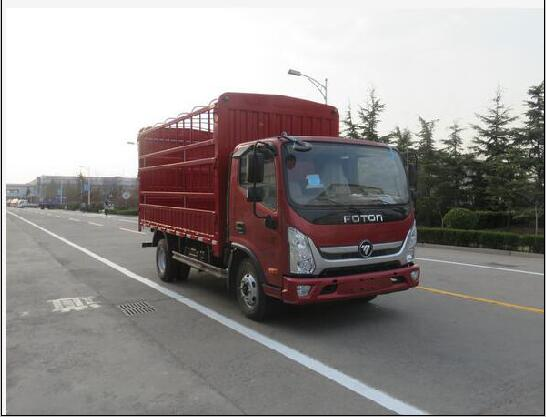smalltruck: (127, 90, 425, 327)
